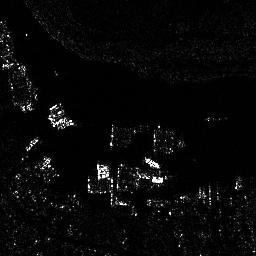ship: (141, 155, 166, 171)
